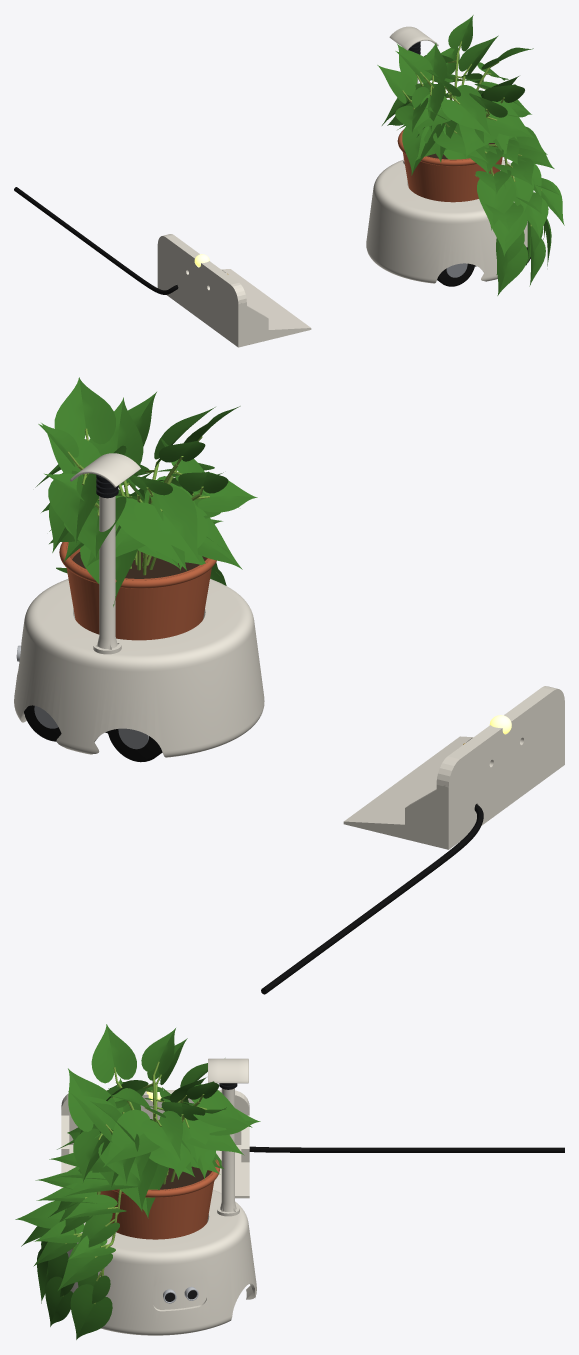
The model's file is robot-planter.glb.
3 views of the same model, one above another, from view 1: azimuth 30°, elevation 25°; view 2: azimuth 150°, elevation 25°; view 3: azimuth 270°, elevation 25° (orthographic). The views are drawn at different scales.
Visible parts, largest first — view 1: shell_body, dock_ramp, pot, leaf.038, dock_cable, leaf.054, leaf.058, leaf.024, leaf.042, leaf.034, leaf.056, leaf.027 (+18 smaller); view 2: shell_body, dock_ramp, pot, sensor_mast, leaf.022, leaf.003, dock_cable, leaf.010, leaf.051, leaf.018, leaf.026, leaf.014 (+6 smaller); view 3: shell_body, pot, dock_ramp, sensor_mast, dock_cable, leaf.039, leaf.001, leaf.072, leaf.002, leaf.043, leaf.010, leaf.042 (+26 smaller).
Boxes of the visible parts, left/top/right/bottom form: shell_body: left=366, top=159, right=527, bottom=283; dock_ramp: left=157, top=234, right=311, bottom=347; pot: left=397, top=129, right=502, bottom=202; leaf.038: left=441, top=85, right=490, bottom=135; dock_cable: left=14, top=187, right=178, bottom=294; leaf.054: left=477, top=179, right=516, bottom=230; leaf.058: left=497, top=244, right=527, bottom=295; leaf.024: left=402, top=123, right=445, bottom=175; leaf.042: left=486, top=101, right=534, bottom=138; leaf.034: left=433, top=123, right=487, bottom=162; leaf.056: left=488, top=210, right=527, bottom=256; leaf.027: left=377, top=65, right=415, bottom=103; shell_body: left=14, top=579, right=264, bottom=757; dock_ramp: left=343, top=686, right=564, bottom=849; pot: left=59, top=542, right=216, bottom=640; sensor_mast: left=70, top=453, right=140, bottom=654; leaf.022: left=134, top=486, right=200, bottom=562; leaf.003: left=54, top=377, right=115, bottom=444; dock_cable: left=261, top=804, right=483, bottom=994; leaf.010: left=48, top=470, right=99, bottom=544; leaf.051: left=89, top=397, right=143, bottom=465; leaf.018: left=117, top=484, right=186, bottom=570; leaf.026: left=193, top=472, right=257, bottom=512; leaf.014: left=64, top=496, right=126, bottom=558; shell_body: left=67, top=1190, right=256, bottom=1335; pot: left=100, top=1159, right=219, bottom=1239; dock_ramp: left=61, top=1090, right=249, bottom=1198; sensor_mast: left=208, top=1058, right=248, bottom=1216; dock_cable: left=249, top=1146, right=564, bottom=1152; leaf.039: left=91, top=1024, right=136, bottom=1083; leaf.001: left=103, top=1109, right=160, bottom=1167; leaf.072: left=70, top=1284, right=112, bottom=1339; leaf.002: left=141, top=1110, right=182, bottom=1160; leaf.043: left=68, top=1068, right=116, bottom=1131; leaf.010: left=192, top=1084, right=252, bottom=1128; leaf.042: left=73, top=1128, right=113, bottom=1182.
Size of the model in its own units: 0.5681 by 0.347 by 0.6727.
